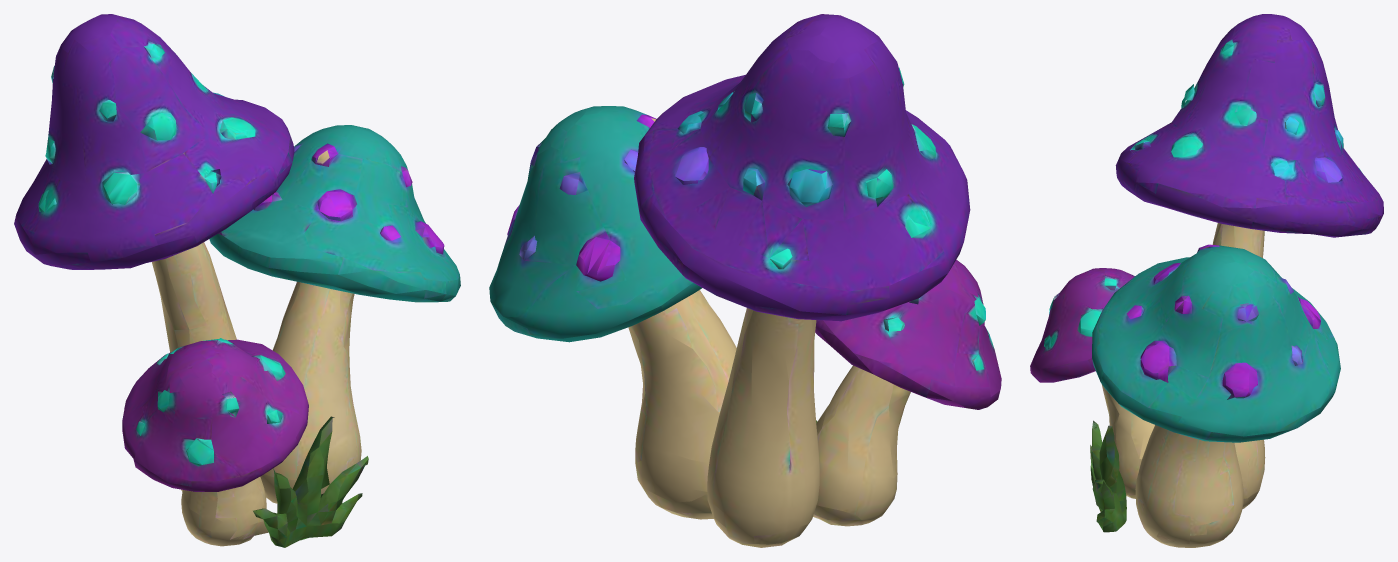
File: bosque_hongos2.glb
The picture shows the model from 3 angles, left to right: view 1: azimuth 30°, elevation 25°; view 2: azimuth 150°, elevation 25°; view 3: azimuth 270°, elevation 25°; orthographic projection. The views are drawn at different scales.
Visible parts, largest first — view 1: tripo_node_32031cfc-aa36-4bba-b866-7b43c83a8467; view 2: tripo_node_32031cfc-aa36-4bba-b866-7b43c83a8467; view 3: tripo_node_32031cfc-aa36-4bba-b866-7b43c83a8467.
Boxes of the visible parts, x1=… form: tripo_node_32031cfc-aa36-4bba-b866-7b43c83a8467: x1=14, y1=14, x2=460, y2=547; tripo_node_32031cfc-aa36-4bba-b866-7b43c83a8467: x1=489, y1=14, x2=1001, y2=547; tripo_node_32031cfc-aa36-4bba-b866-7b43c83a8467: x1=1030, y1=14, x2=1383, y2=547.
Size of the model in its own units: 0.8324 by 0.9955 by 0.7005.
Materials: 1 (1 with a texture image).
